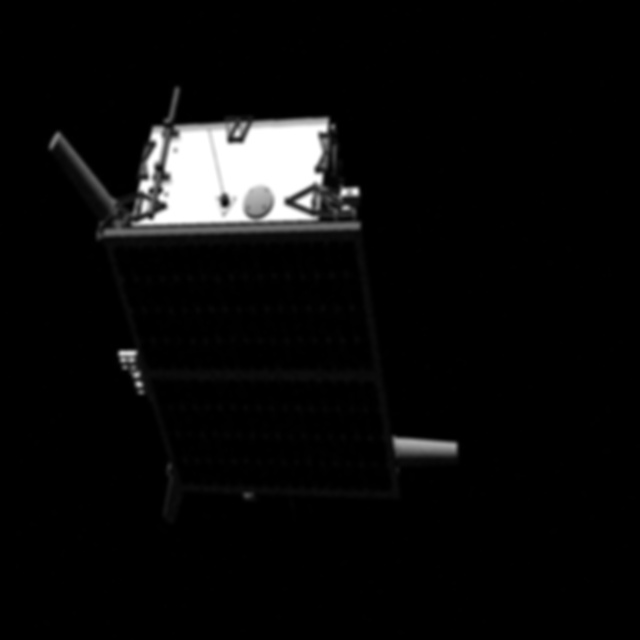satellite: (36, 60, 466, 549)
